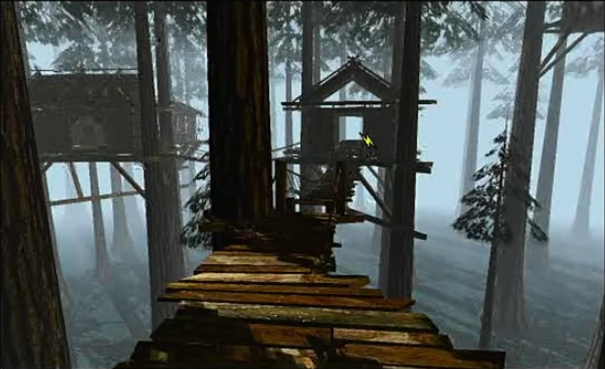Keep: (359, 130, 378, 150)
